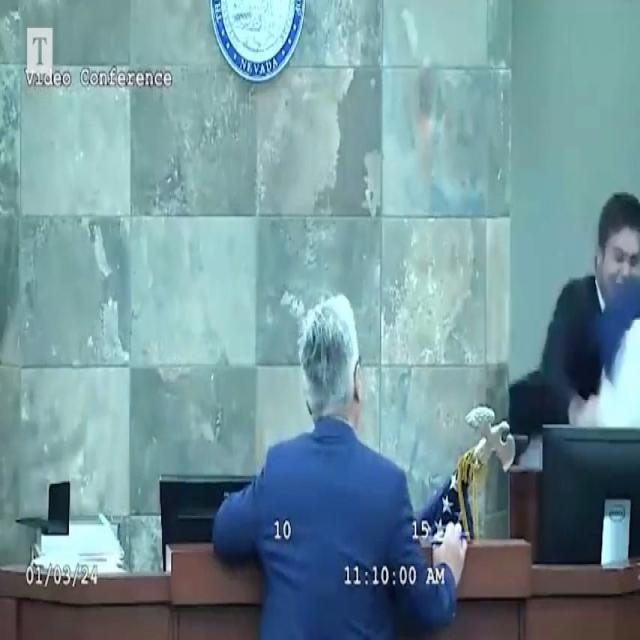fight: (522, 182, 640, 514)
non-fight: (208, 283, 467, 634)
